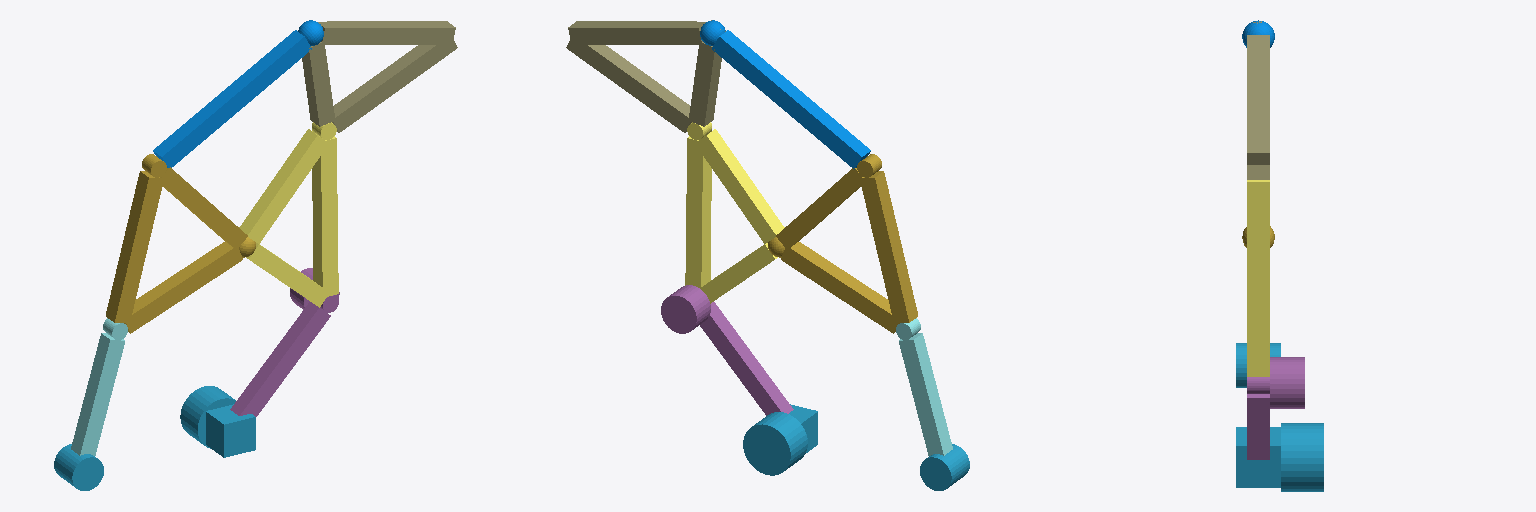
robot.urdf — Robot:
<?xml version="1.0"?>
<robot  name="Robot" >
 <link  name="G" >
  <visual >
   <origin  rpy="0.0 0.0 0.0"  xyz="0.0 0.0 0.0" />
   <geometry >
    <box  size="0.08 0.08 0.08" />
   </geometry>
   <material  name="G_Material" >
    <color  rgba="0.20856352241202425 0.6597387408684208 0.8100469130840032 1.0" />
   </material>
  </visual>
  <collision  name="G_Collision" >
   <origin  rpy="0.0 0.0 0.0"  xyz="0.0 0.0 0.0" />
   <geometry >
    <box  size="0.08 0.08 0.08" />
   </geometry>
  </collision>
  <inertial >
   <origin  rpy="0.0 0.0 0.0"  xyz="0.0 0.0 0.0" />
   <mass  value="0.4937142857142858" />
   <inertia  ixy="0.0"  ixz="0.0"  izz="0.0005266285714285715"  ixx="0.0005266285714285715"  iyz="0.0"  iyy="0.0005266285714285715" />
  </inertial>
 </link>
 <link  name="L3" >
  <visual >
   <origin  rpy="0.0 0.0 0.0"  xyz="0.0 0.0 0.17529" />
   <geometry >
    <box  size="0.04 0.04 0.31057414084143564" />
   </geometry>
   <material  name="L3_Material" >
    <color  rgba="0.6763130730287981 0.4599164986729355 0.6970338286249718 1.0" />
   </material>
  </visual>
  <collision  name="L3_Collision" >
   <origin  rpy="0.0 0.0 0.0"  xyz="0.0 0.0 0.17529" />
   <geometry >
    <box  size="0.04 0.04 0.31057414084143564" />
   </geometry>
  </collision>
  <inertial >
   <origin  rpy="0.0 0.0 0.0"  xyz="0.0 0.0 0.17529" />
   <mass  value="0.47917153158392933" />
   <inertia  ixy="0.0"  ixz="0.0"  izz="0.00012777907508904784"  ixx="0.003915482166290194"  iyz="0.0"  iyy="0.003915482166290194" />
  </inertial>
 </link>
 <link  name="L4" >
  <visual >
   <origin  rpy="0.0 0.7330038377215615 0.0"  xyz="-0.10295216702927151 0.0 0.30094575896599096" />
   <geometry >
    <box  size="0.03999999910593033 0.03999999910593033 0.267730973170762" />
   </geometry>
   <material  name="L4_Material" >
    <color  rgba="0.9848141484811896 0.9577040643002175 0.4573327686707884 1.0" />
   </material>
  </visual>
  <collision  name="L4_0_Collision" >
   <origin  rpy="0.0 0.7330038377215615 0.0"  xyz="-0.10295216702927151 0.0 0.30094575896599096" />
   <geometry >
    <box  size="0.03999999910593033 0.03999999910593033 0.267730973170762" />
   </geometry>
  </collision>
  <visual >
   <origin  rpy="3.141592653589793 0.8345467114834739 3.141592653589793"  xyz="-0.10295216702927368 0.0 0.09329893627333558" />
   <geometry >
    <box  size="0.03999999910593033 0.03999999910593033 0.23787652171408707" />
   </geometry>
   <material  name="L4_Material" >
    <color  rgba="0.9848141484811896 0.9577040643002175 0.4573327686707884 1.0" />
   </material>
  </visual>
  <collision  name="L4_1_Collision" >
   <origin  rpy="3.141592653589793 0.8345467114834739 3.141592653589793"  xyz="-0.10295216702927368 0.0 0.09329893627333558" />
   <geometry >
    <box  size="0.03999999910593033 0.03999999910593033 0.23787652171408707" />
   </geometry>
  </collision>
  <visual >
   <origin  rpy="0.0 -1.354472090042691e-14 0.0"  xyz="2.1649348980190553e-15 0.0 0.20764682269265547" />
   <geometry >
    <box  size="0.03999999910593033 0.03999999910593033 0.3752936462793805" />
   </geometry>
   <material  name="L4_Material" >
    <color  rgba="0.9848141484811896 0.9577040643002175 0.4573327686707884 1.0" />
   </material>
  </visual>
  <collision  name="L4_2_Collision" >
   <origin  rpy="0.0 -1.354472090042691e-14 0.0"  xyz="2.1649348980190553e-15 0.0 0.20764682269265547" />
   <geometry >
    <box  size="0.03999999910593033 0.03999999910593033 0.3752936462793805" />
   </geometry>
  </collision>
  <inertial >
   <origin  rpy="0.0 0.0 0.0"  xyz="-0.06863 0.0 0.20063" />
   <mass  value="1.4538704687140938" />
   <inertia  ixy="-2.364937164557688e-19"  ixz="-0.09211775389102192"  izz="0.09397256977970449"  ixx="0.11650103534364467"  iyz="5.462364220959546e-20"  iyy="0.21008590634902355" />
  </inertial>
 </link>
 <link  name="EE" >
  <visual >
   <origin  rpy="-3.141592653589793 -0.649792184270373 3.141592653589793"  xyz="-0.11403255452305544 0.0 0.2171563243105497" />
   <geometry >
    <box  size="0.03999999910593033 0.03999999910593033 0.3369540676306518" />
   </geometry>
   <material  name="EE_Material" >
    <color  rgba="0.6237624956805166 0.6109011485889799 0.45994442203244756 1.0" />
   </material>
  </visual>
  <collision  name="EE_0_Collision" >
   <origin  rpy="-3.141592653589793 -0.649792184270373 3.141592653589793"  xyz="-0.11403255452305544 0.0 0.2171563243105497" />
   <geometry >
    <box  size="0.03999999910593033 0.03999999910593033 0.3369540676306518" />
   </geometry>
  </collision>
  <visual >
   <origin  rpy="0.0 0.0 0.0"  xyz="0.0 0.0 0.18361176898624476" />
   <geometry >
    <box  size="0.03999999910593033 0.03999999910593033 0.3272235388665592" />
   </geometry>
   <material  name="EE_Material" >
    <color  rgba="0.6237624956805166 0.6109011485889799 0.45994442203244756 1.0" />
   </material>
  </visual>
  <collision  name="EE_1_Collision" >
   <origin  rpy="0.0 0.0 0.0"  xyz="0.0 0.0 0.18361176898624476" />
   <geometry >
    <box  size="0.03999999910593033 0.03999999910593033 0.3272235388665592" />
   </geometry>
  </collision>
  <visual >
   <origin  rpy="3.141592653589793 1.2846999394537875 3.141592653589793"  xyz="-0.11403255452305544 0.0 0.03354455532430495" />
   <geometry >
    <box  size="0.03999999910593033 0.03999999910593033 0.1977280865966973" />
   </geometry>
   <material  name="EE_Material" >
    <color  rgba="0.6237624956805166 0.6109011485889799 0.45994442203244756 1.0" />
   </material>
  </visual>
  <collision  name="EE_2_Collision" >
   <origin  rpy="3.141592653589793 1.2846999394537875 3.141592653589793"  xyz="-0.11403255452305544 0.0 0.03354455532430495" />
   <geometry >
    <box  size="0.03999999910593033 0.03999999910593033 0.1977280865966973" />
   </geometry>
  </collision>
  <inertial >
   <origin  rpy="0.0 0.0 0.0"  xyz="-0.07602 0.0 0.14477" />
   <mass  value="1.426133416782204" />
   <inertia  ixy="1.0786937357224497e-18"  ixz="-0.39848481483425074"  izz="0.2754588958315214"  ixx="0.6219526497763233"  iyz="2.3751605497192806e-19"  iyy="0.8970312433803701" />
  </inertial>
 </link>
 <link  name="L7" >
  <visual >
   <origin  rpy="0.0 0.0 0.0"  xyz="0.0 0.0 0.16301" />
   <geometry >
    <box  size="0.04 0.04 0.2860298385684489" />
   </geometry>
   <material  name="L7_Material" >
    <color  rgba="0.5977254977176822 0.9095280961245363 0.9156368867524194 1.0" />
   </material>
  </visual>
  <collision  name="L7_Collision" >
   <origin  rpy="0.0 0.0 0.0"  xyz="0.0 0.0 0.16301" />
   <geometry >
    <box  size="0.04 0.04 0.2860298385684489" />
   </geometry>
  </collision>
  <inertial >
   <origin  rpy="0.0 0.0 0.0"  xyz="0.0 0.0 0.16301" />
   <mass  value="0.4413031795056069" />
   <inertia  ixy="0.0"  ixz="0.0"  izz="0.00011768084786816183"  ixx="0.0030675376970077475"  iyz="0.0"  iyy="0.0030675376970077475" />
  </inertial>
 </link>
 <link  name="L5" >
  <visual >
   <origin  rpy="-3.141592653589793 -0.9372251978037345 3.141592653589793"  xyz="0.13890486792042905 0.0 0.10203932178788488" />
   <geometry >
    <box  size="0.03999999910593033 0.03999999910593033 0.30471197064808536" />
   </geometry>
   <material  name="L5_Material" >
    <color  rgba="0.7685646578926987 0.6574272940531629 0.26118625981612986 1.0" />
   </material>
  </visual>
  <collision  name="L5_0_Collision" >
   <origin  rpy="-3.141592653589793 -0.9372251978037345 3.141592653589793"  xyz="0.13890486792042905 0.0 0.10203932178788488" />
   <geometry >
    <box  size="0.03999999910593033 0.03999999910593033 0.30471197064808536" />
   </geometry>
  </collision>
  <visual >
   <origin  rpy="0.0 -1.0072807061778266 0.0"  xyz="0.13890486792042905 0.0 0.2918467767704922" />
   <geometry >
    <box  size="0.03999999910593033 0.03999999910593033 0.2886201922182084" />
   </geometry>
   <material  name="L5_Material" >
    <color  rgba="0.7685646578926987 0.6574272940531629 0.26118625981612986 1.0" />
   </material>
  </visual>
  <collision  name="L5_1_Collision" >
   <origin  rpy="0.0 -1.0072807061778266 0.0"  xyz="0.13890486792042905 0.0 0.2918467767704922" />
   <geometry >
    <box  size="0.03999999910593033 0.03999999910593033 0.2886201922182084" />
   </geometry>
  </collision>
  <visual >
   <origin  rpy="0.0 0.0 0.0"  xyz="0.0 0.0 0.18980745498260734" />
   <geometry >
    <box  size="0.03999999910593033 0.03999999910593033 0.33961491085928436" />
   </geometry>
   <material  name="L5_Material" >
    <color  rgba="0.7685646578926987 0.6574272940531629 0.26118625981612986 1.0" />
   </material>
  </visual>
  <collision  name="L5_2_Collision" >
   <origin  rpy="0.0 0.0 0.0"  xyz="0.0 0.0 0.18980745498260734" />
   <geometry >
    <box  size="0.03999999910593033 0.03999999910593033 0.33961491085928436" />
   </geometry>
  </collision>
  <inertial >
   <origin  rpy="0.0 0.0 0.0"  xyz="0.0926 0.0 0.19456" />
   <mass  value="1.5434473348983349" />
   <inertia  ixy="2.178084721511058e-19"  ixz="0.10532983332664972"  izz="0.10702578190605617"  ixx="0.1403818190296316"  iyz="-2.178084721511058e-19"  iyy="0.24699601499811424" />
  </inertial>
 </link>
 <link  name="L6" >
  <visual >
   <origin  rpy="0.0 0.0 0.0"  xyz="0.0 0.0 0.22699" />
   <geometry >
    <box  size="0.04 0.04 0.41398223209157115" />
   </geometry>
   <material  name="L6_Material" >
    <color  rgba="0.08047573790350548 0.5922119917180177 0.9142307459094781 1.0" />
   </material>
  </visual>
  <collision  name="L6_Collision" >
   <origin  rpy="0.0 0.0 0.0"  xyz="0.0 0.0 0.22699" />
   <geometry >
    <box  size="0.04 0.04 0.41398223209157115" />
   </geometry>
  </collision>
  <inertial >
   <origin  rpy="0.0 0.0 0.0"  xyz="0.0 0.0 0.22699" />
   <mass  value="0.6387154437984242" />
   <inertia  ixy="0.0"  ixz="0.0"  izz="0.00017032411834624645"  ixx="0.00920715170376077"  iyz="0.0"  iyy="0.00920715170376077" />
  </inertial>
 </link>
 <joint  type="revolute"  name="Gabs" >
  <parent  link="G" />
  <child  link="L3" />
  <origin  rpy="0.0 0.7547270559595018 0.0"  xyz="0.0 0.0 0.0" />
  <axis  xyz="0 1 0" />
  <limit  lower="-3.141592653589793"  upper="3.141592653589793"  velocity="18.692476288859268"  effort="120.6" />
  <dynamics  damping="0.05"  friction="0" />
 </joint>
 <joint  type="fixed"  name="Gabs_G_WeldActuator" >
  <parent  link="G" />
  <child  link="Gabs_GActuator" />
  <origin  rpy="1.5707963267948966 0.7547270559595018 1.1102230246251565e-16"  xyz="0.0 0.0775 0.0" />
 </joint>
 <link  name="Gabs_GActuator" >
  <visual >
   <geometry >
    <cylinder  radius="0.06"  length="0.075" />
   </geometry>
   <material  name="Gabs_GActuator_Material" >
    <color  rgba="0.20856352241202425 0.6597387408684208 0.8100469130840032 0.9" />
   </material>
  </visual>
  <inertial >
   <inertia  ixy="0.0"  ixz="0.0"  izz="0.066"  ixx="0.04675"  iyz="0.0"  iyy="0.04675" />
   <mass  value="2.2" />
  </inertial>
 </link>
 <link  name="Gabs_GUnit" >
  <visual >
   <geometry >
    <cylinder  radius="0.04"  length="0.08" />
   </geometry>
   <material  name="Gabs_GUnit_Material" >
    <color  rgba="0.20856352241202425 0.6597387408684208 0.8100469130840032 0.9" />
   </material>
  </visual>
  <inertial >
   <inertia  ixy="0.0"  ixz="0.0"  izz="0.002"  ixx="0.0016666666666666666"  iyz="0.0"  iyy="0.0016666666666666666" />
   <mass  value="0.1" />
  </inertial>
 </link>
 <joint  type="fixed"  name="Gabs_G_WeldUnit" >
  <parent  link="G" />
  <child  link="Gabs_GUnit" />
  <origin  rpy="1.5707963267948966 0.7547270559595018 1.1102230246251565e-16"  xyz="0.0 0.0 0.0" />
 </joint>
 <joint  type="revolute"  name="J1m" >
  <parent  link="L3" />
  <child  link="L4" />
  <origin  rpy="0.0 -0.7678841914322679 0.0"  xyz="1.220686378567705e-17 0.0 0.35057414084143557" />
  <axis  xyz="0 1 0" />
  <limit  lower="-3.141592653589793"  upper="3.141592653589793"  velocity="18.692476288859268"  effort="28.799999999999997" />
  <dynamics  damping="0.05"  friction="0" />
 </joint>
 <joint  type="fixed"  name="J1m_L3_WeldActuator" >
  <parent  link="L3" />
  <child  link="J1m_L3Actuator" />
  <origin  rpy="1.5707963267948966 -0.7678841914322678 -1.1102230246251565e-16"  xyz="1.220686378567705e-17 0.051000000000000004 0.35057414084143557" />
 </joint>
 <link  name="J1m_L3Actuator" >
  <visual >
   <geometry >
    <cylinder  radius="0.045"  length="0.062" />
   </geometry>
   <material  name="J1m_L3Actuator_Material" >
    <color  rgba="0.6763130730287981 0.4599164986729355 0.6970338286249718 0.9" />
   </material>
  </visual>
  <inertial >
   <inertia  ixy="0.0"  ixz="0.0"  izz="0.021599999999999998"  ixx="0.015759999999999996"  iyz="0.0"  iyy="0.015759999999999996" />
   <mass  value="0.96" />
  </inertial>
 </link>
 <link  name="J1m_L3Unit" >
  <visual >
   <geometry >
    <cylinder  radius="0.02"  length="0.04" />
   </geometry>
   <material  name="J1m_L3Unit_Material" >
    <color  rgba="0.6763130730287981 0.4599164986729355 0.6970338286249718 0.9" />
   </material>
  </visual>
  <inertial >
   <inertia  ixy="0.0"  ixz="0.0"  izz="0.001"  ixx="0.0008333333333333333"  iyz="0.0"  iyy="0.0008333333333333333" />
   <mass  value="0.1" />
  </inertial>
 </link>
 <joint  type="fixed"  name="J1m_L3_WeldUnit" >
  <parent  link="L3" />
  <child  link="J1m_L3Unit" />
  <origin  rpy="1.5707963267948966 -0.7678841914322678 -1.1102230246251565e-16"  xyz="1.220686378567705e-17 0.0 0.35057414084143557" />
 </joint>
 <joint  type="revolute"  name="J2m" >
  <parent  link="L4" />
  <child  link="EE" />
  <origin  rpy="0.0 1.15850382489762 0.0"  xyz="4.3298697960381105e-15 0.0 0.4152936453853109" />
  <axis  xyz="0 1 0" />
  <limit  lower="-3.141592653589793"  upper="3.141592653589793"  velocity="6.283185307179586"  effort="600.0" />
  <dynamics  damping="0.05"  friction="0" />
 </joint>
 <link  name="J2m_L4Unit" >
  <visual >
   <geometry >
    <cylinder  radius="0.019999999552965164"  length="0.03999999910593033" />
   </geometry>
   <material  name="J2m_L4Unit_Material" >
    <color  rgba="0.9848141484811896 0.9577040643002175 0.4573327686707884 0.9" />
   </material>
  </visual>
  <inertial >
   <inertia  ixy="0.0"  ixz="0.0"  izz="0.0009999999776482583"  ixx="0.0008333333147068819"  iyz="0.0"  iyy="0.0008333333147068819" />
   <mass  value="0.1" />
  </inertial>
 </link>
 <joint  type="fixed"  name="J2m_L4_WeldUnit" >
  <parent  link="L4" />
  <child  link="J2m_L4Unit" />
  <origin  rpy="1.5707963267948966 1.1585038248976205 1.1102230246251565e-16"  xyz="4.3298697960381105e-15 0.0 0.4152936453853109" />
 </joint>
 <joint  type="revolute"  name="G2" >
  <parent  link="G" />
  <child  link="L7" />
  <origin  rpy="0.0 0.28510567942682874 0.0"  xyz="-0.380573704570364 0.0 0.0" />
  <axis  xyz="0 1 0" />
  <limit  lower="-3.141592653589793"  upper="3.141592653589793"  velocity="6.283185307179586"  effort="600.0" />
  <dynamics  damping="0.05"  friction="0" />
 </joint>
 <link  name="G2_GUnit" >
  <visual >
   <geometry >
    <cylinder  radius="0.04"  length="0.08" />
   </geometry>
   <material  name="G2_GUnit_Material" >
    <color  rgba="0.20856352241202425 0.6597387408684208 0.8100469130840032 0.9" />
   </material>
  </visual>
  <inertial >
   <inertia  ixy="0.0"  ixz="0.0"  izz="0.002"  ixx="0.0016666666666666666"  iyz="0.0"  iyy="0.0016666666666666666" />
   <mass  value="0.1" />
  </inertial>
 </link>
 <joint  type="fixed"  name="G2_G_WeldUnit" >
  <parent  link="G" />
  <child  link="G2_GUnit" />
  <origin  rpy="1.5707963267948966 0.28510567942682874 -1.1102230246251565e-16"  xyz="-0.380573704570364 0.0 0.0" />
 </joint>
 <joint  type="revolute"  name="J1b1" >
  <parent  link="L7" />
  <child  link="L5" />
  <origin  rpy="0.0 -0.026921955112104046 0.0"  xyz="-1.1102230246251565e-16 0.0 0.32602983856844886" />
  <axis  xyz="0 1 0" />
  <limit  lower="-3.141592653589793"  upper="3.141592653589793"  velocity="6.283185307179586"  effort="600.0" />
  <dynamics  damping="0.05"  friction="0" />
 </joint>
 <link  name="J1b1_L7Unit" >
  <visual >
   <geometry >
    <cylinder  radius="0.02"  length="0.04" />
   </geometry>
   <material  name="J1b1_L7Unit_Material" >
    <color  rgba="0.5977254977176822 0.9095280961245363 0.9156368867524194 0.9" />
   </material>
  </visual>
  <inertial >
   <inertia  ixy="0.0"  ixz="0.0"  izz="0.001"  ixx="0.0008333333333333333"  iyz="0.0"  iyy="0.0008333333333333333" />
   <mass  value="0.1" />
  </inertial>
 </link>
 <joint  type="fixed"  name="J1b1_L7_WeldUnit" >
  <parent  link="L7" />
  <child  link="J1b1_L7Unit" />
  <origin  rpy="1.5707963267948966 -0.026921955112104046 0.0"  xyz="-1.1102230246251565e-16 0.0 0.32602983856844886" />
 </joint>
 <link  name="J2b1_L5Pseudo" >
  <visual >
   <geometry >
    <sphere  radius="0.02857142793280738" />
   </geometry>
   <material  name="J2b1_L5Pseudo_Material" >
    <color  rgba="0.7685646578926987 0.6574272940531629 0.26118625981612986 0.5" />
   </material>
  </visual>
  <inertial >
   <mass  value="0.05" />
   <inertia  ixy="0.0"  ixz="0.0"  izz="1.632652988239212e-05"  ixx="1.632652988239212e-05"  iyz="0.0"  iyy="1.632652988239212e-05" />
  </inertial>
 </link>
 <joint  type="revolute"  name="J2b1_L5_revolute" >
  <parent  link="L5" />
  <child  link="J2b1_L5Pseudo" />
  <origin  rpy="0.0 0.0 0.0"  xyz="0.2778097358408581 0.0 0.20407864357576977" />
  <axis  xyz="0 1 0" />
  <limit  lower="-3.141592653589793"  upper="3.141592653589793"  velocity="6.283185307179586"  effort="600.0" />
  <dynamics  damping="0.05"  friction="0" />
 </joint>
 <joint  type="fixed"  name="J2b1_L5_Weld" >
  <parent  link="L4" />
  <child  link="J2b1_L4Pseudo" />
  <origin  rpy="0.0 0.2713408597874907 0.0"  xyz="-0.2059043340585472 0.0 0.1865978725466711" />
 </joint>
 <link  name="J2b1_L4Pseudo" >
  <visual >
   <geometry >
    <sphere  radius="0.02857142793280738" />
   </geometry>
   <material  name="J2b1_L4Pseudo_Material" >
    <color  rgba="0.9848141484811896 0.9577040643002175 0.4573327686707884 0.5" />
   </material>
  </visual>
  <inertial >
   <mass  value="0.05" />
   <inertia  ixy="0.0"  ixz="0.0"  izz="1.632652988239212e-05"  ixx="1.632652988239212e-05"  iyz="0.0"  iyy="1.632652988239212e-05" />
  </inertial>
 </link>
 <joint  type="revolute"  name="J1b2" >
  <parent  link="L5" />
  <child  link="L6" />
  <origin  rpy="0.0 0.7911298922393737 0.0"  xyz="0.0 0.0 0.3796149099652147" />
  <axis  xyz="0 1 0" />
  <limit  lower="-3.141592653589793"  upper="3.141592653589793"  velocity="6.283185307179586"  effort="600.0" />
  <dynamics  damping="0.05"  friction="0" />
 </joint>
 <link  name="J1b2_L5Unit" >
  <visual >
   <geometry >
    <cylinder  radius="0.019999999552965164"  length="0.03999999910593033" />
   </geometry>
   <material  name="J1b2_L5Unit_Material" >
    <color  rgba="0.7685646578926987 0.6574272940531629 0.26118625981612986 0.9" />
   </material>
  </visual>
  <inertial >
   <inertia  ixy="0.0"  ixz="0.0"  izz="0.0009999999776482583"  ixx="0.0008333333147068819"  iyz="0.0"  iyy="0.0008333333147068819" />
   <mass  value="0.1" />
  </inertial>
 </link>
 <joint  type="fixed"  name="J1b2_L5_WeldUnit" >
  <parent  link="L5" />
  <child  link="J1b2_L5Unit" />
  <origin  rpy="1.5707963267948966 0.7911298922393732 1.1102230246251565e-16"  xyz="0.0 0.0 0.3796149099652147" />
 </joint>
 <link  name="J2b2_L6Pseudo" >
  <visual >
   <geometry >
    <sphere  radius="0.028571428571428574" />
   </geometry>
   <material  name="J2b2_L6Pseudo_Material" >
    <color  rgba="0.08047573790350548 0.5922119917180177 0.9142307459094781 0.5" />
   </material>
  </visual>
  <inertial >
   <mass  value="0.05" />
   <inertia  ixy="0.0"  ixz="0.0"  izz="1.6326530612244903e-05"  ixx="1.6326530612244903e-05"  iyz="0.0"  iyy="1.6326530612244903e-05" />
  </inertial>
 </link>
 <joint  type="revolute"  name="J2b2_L6_revolute" >
  <parent  link="L6" />
  <child  link="J2b2_L6Pseudo" />
  <origin  rpy="0.0 0.0 0.0"  xyz="1.1102230246251565e-16 0.0 0.45398223209157107" />
  <axis  xyz="0 1 0" />
  <limit  lower="-3.141592653589793"  upper="3.141592653589793"  velocity="6.283185307179586"  effort="600.0" />
  <dynamics  damping="0.05"  friction="0" />
 </joint>
 <joint  type="fixed"  name="J2b2_L6_Weld" >
  <parent  link="EE" />
  <child  link="J2b2_EEPseudo" />
  <origin  rpy="0.0 -0.09603307287075635 0.0"  xyz="-0.22806510904611083 0.0 0.06708911064860973" />
 </joint>
 <link  name="J2b2_EEPseudo" >
  <visual >
   <geometry >
    <sphere  radius="0.02857142793280738" />
   </geometry>
   <material  name="J2b2_EEPseudo_Material" >
    <color  rgba="0.6237624956805166 0.6109011485889799 0.45994442203244756 0.5" />
   </material>
  </visual>
  <inertial >
   <mass  value="0.05" />
   <inertia  ixy="0.0"  ixz="0.0"  izz="1.632652988239212e-05"  ixx="1.632652988239212e-05"  iyz="0.0"  iyy="1.632652988239212e-05" />
  </inertial>
 </link>
</robot>

--- Render facts (derived) ---
The picture shows the robot from 3 angles, left to right: view 1: azimuth 30°, elevation 25°; view 2: azimuth 150°, elevation 25°; view 3: azimuth 270°, elevation 25°; orthographic projection.
Robot: Robot — 19 links, 18 joints (8 revolute, 10 fixed); root link G; default pose: every joint at zero.
Links seen in each view (by area): view 1: L5, EE, L4, L6, L3, L7, G, Gabs_GActuator, G2_GUnit; view 2: L5, EE, L4, L6, L3, L7, Gabs_GActuator, J1m_L3Actuator, G2_GUnit, G; view 3: L4, EE, Gabs_GActuator, G, J1m_L3Actuator, L3, G2_GUnit.
Boxes of the visible links, box(x1,y1,x2,y2) form: L5: box(106, 167, 247, 333); EE: box(302, 21, 457, 132); L4: box(239, 129, 338, 307); L6: box(153, 30, 311, 167); L3: box(230, 302, 330, 416); L7: box(71, 333, 124, 455); G: box(206, 404, 255, 457); Gabs_GActuator: box(180, 386, 235, 448); G2_GUnit: box(54, 444, 103, 490); L5: box(776, 168, 917, 333); EE: box(566, 21, 721, 132); L4: box(685, 129, 784, 303); L6: box(712, 30, 870, 169); L3: box(700, 302, 793, 415); L7: box(899, 333, 952, 455); Gabs_GActuator: box(743, 412, 807, 475); J1m_L3Actuator: box(661, 285, 710, 333); G2_GUnit: box(920, 444, 969, 490); G: box(789, 404, 817, 452); L4: box(1247, 180, 1269, 376); EE: box(1247, 35, 1269, 179); Gabs_GActuator: box(1281, 423, 1323, 491); G: box(1236, 427, 1280, 487); J1m_L3Actuator: box(1270, 357, 1304, 408); L3: box(1247, 394, 1269, 459); G2_GUnit: box(1236, 343, 1280, 387).
Size in the robot's own frame: 0.9797 by 0.155 by 0.9945 metres.
Geometry: primitives only (box / cylinder / sphere), no mesh files.
